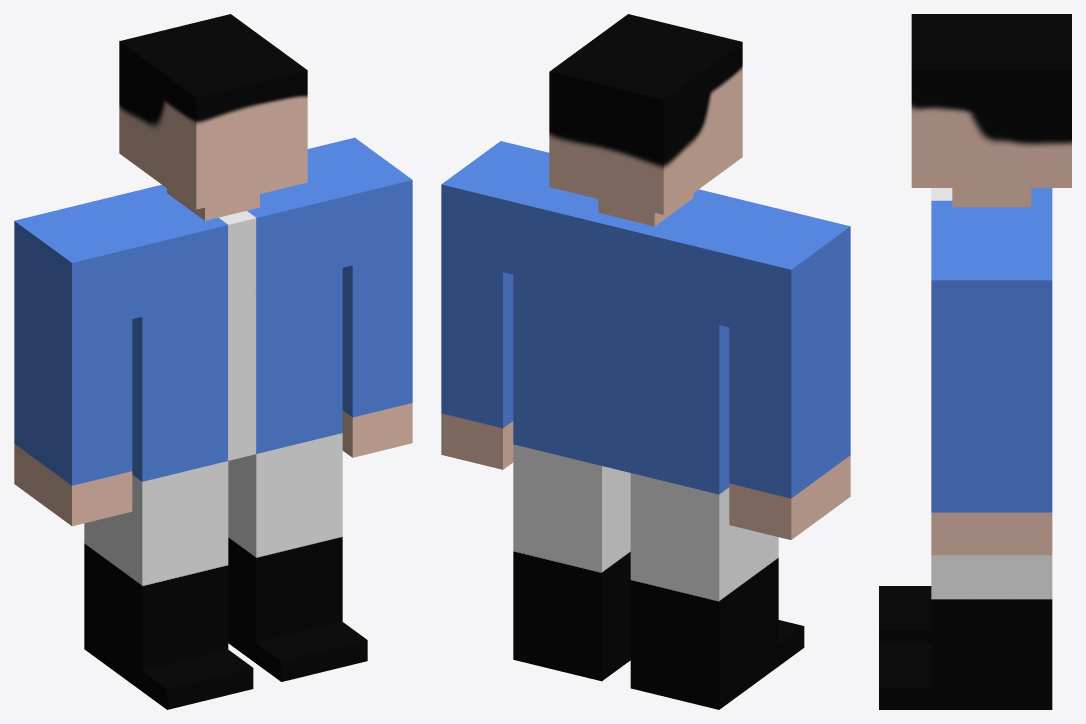
The model's file is simple-man.glb.
The picture shows the model from 3 angles, left to right: view 1: azimuth 30°, elevation 25°; view 2: azimuth 150°, elevation 25°; view 3: azimuth 270°, elevation 25°; orthographic projection. The views are drawn at different scales.
Visible parts, largest first — view 1: Body; view 2: Body; view 3: Body.
Part boxes in pixels (x1,y1,x2,y2): Body: (14, 14, 412, 709); Body: (441, 14, 850, 709); Body: (879, 14, 1071, 709).
Size of the model in its own units: 3.4 by 5.63 by 1.6.
Materials: 1 (1 with a texture image).
